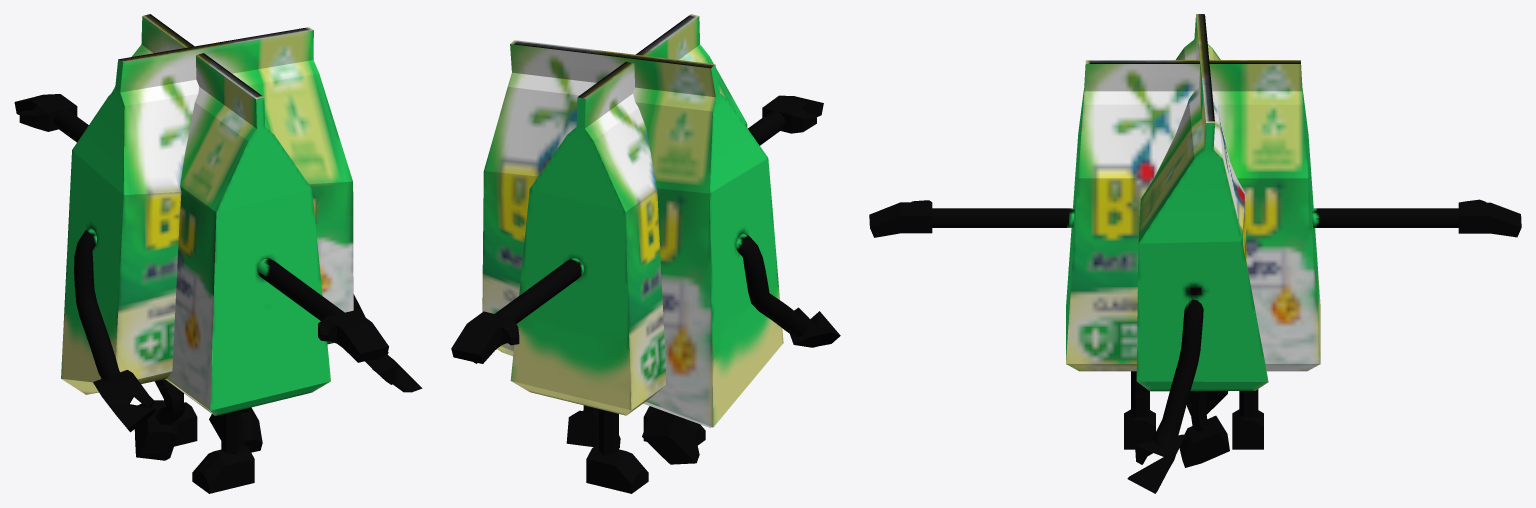
The model's file is rinso walking.fbx.
3 views of the same model, side by side, from view 1: azimuth 30°, elevation 25°; view 2: azimuth 150°, elevation 25°; view 3: azimuth 270°, elevation 25° (orthographic). The views are drawn at different scales.
Visible parts, largest first — view 1: RINSO.001, RINSO; view 2: RINSO.001, RINSO; view 3: RINSO, RINSO.001.
Boxes of the visible parts, left/top/right/bottom form: RINSO.001: left=61, top=27, right=422, bottom=460; RINSO: left=14, top=14, right=388, bottom=493; RINSO.001: left=473, top=40, right=840, bottom=464; RINSO: left=451, top=14, right=823, bottom=493; RINSO: left=869, top=60, right=1521, bottom=449; RINSO.001: left=1127, top=14, right=1268, bottom=493.
Size of the model in its own units: 172 by 204 by 307.
Materials: 2 (2 with a texture image).
